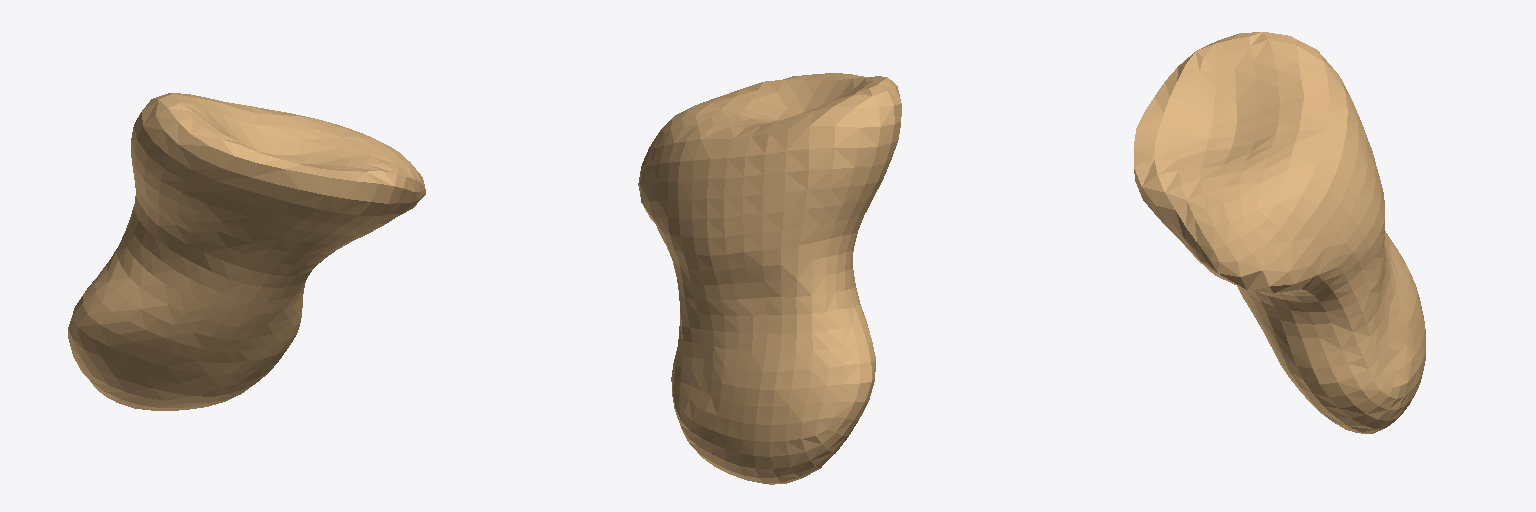
File: DistalPhalanx_3.obj
3 renders of one model, left to right at view 1: azimuth 30°, elevation 25°; view 2: azimuth 150°, elevation 25°; view 3: azimuth 270°, elevation 25°, orthographic.
Visible parts, largest first — view 1: Object_0DistalPhalanx_3; view 2: Object_0DistalPhalanx_3; view 3: Object_0DistalPhalanx_3.
Boxes of the visible parts, <box> form: Object_0DistalPhalanx_3: <box>68,93,425,410</box>; Object_0DistalPhalanx_3: <box>638,73,901,484</box>; Object_0DistalPhalanx_3: <box>1134,32,1425,433</box>.
Bounding box in the file's own units: 13.07 × 15.66 × 11.72.